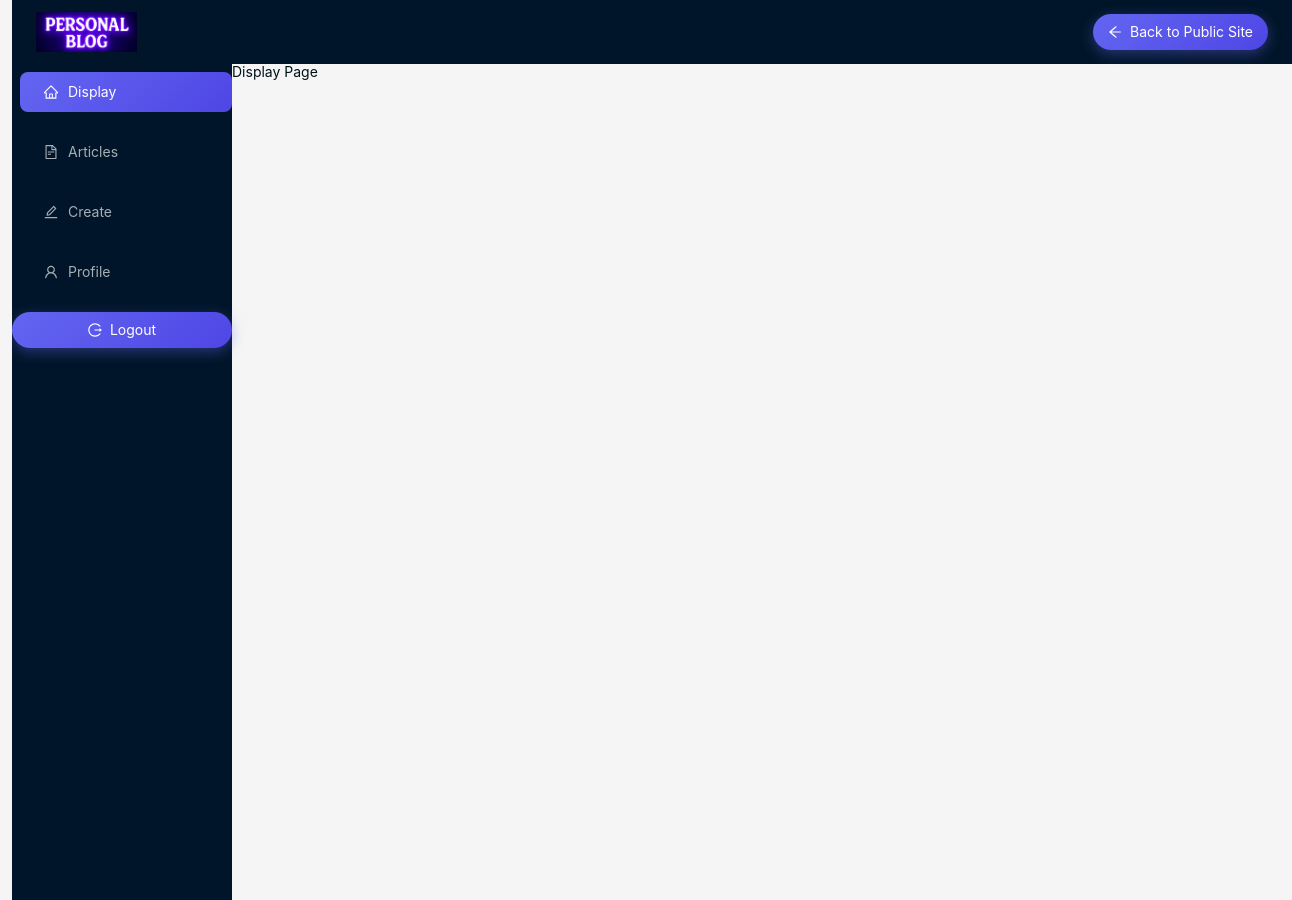
Test: AdminLayout › clicking on menu navigates to page
Click the menu item "Create" at coordinates (78, 212), box [44, 203, 112, 220]
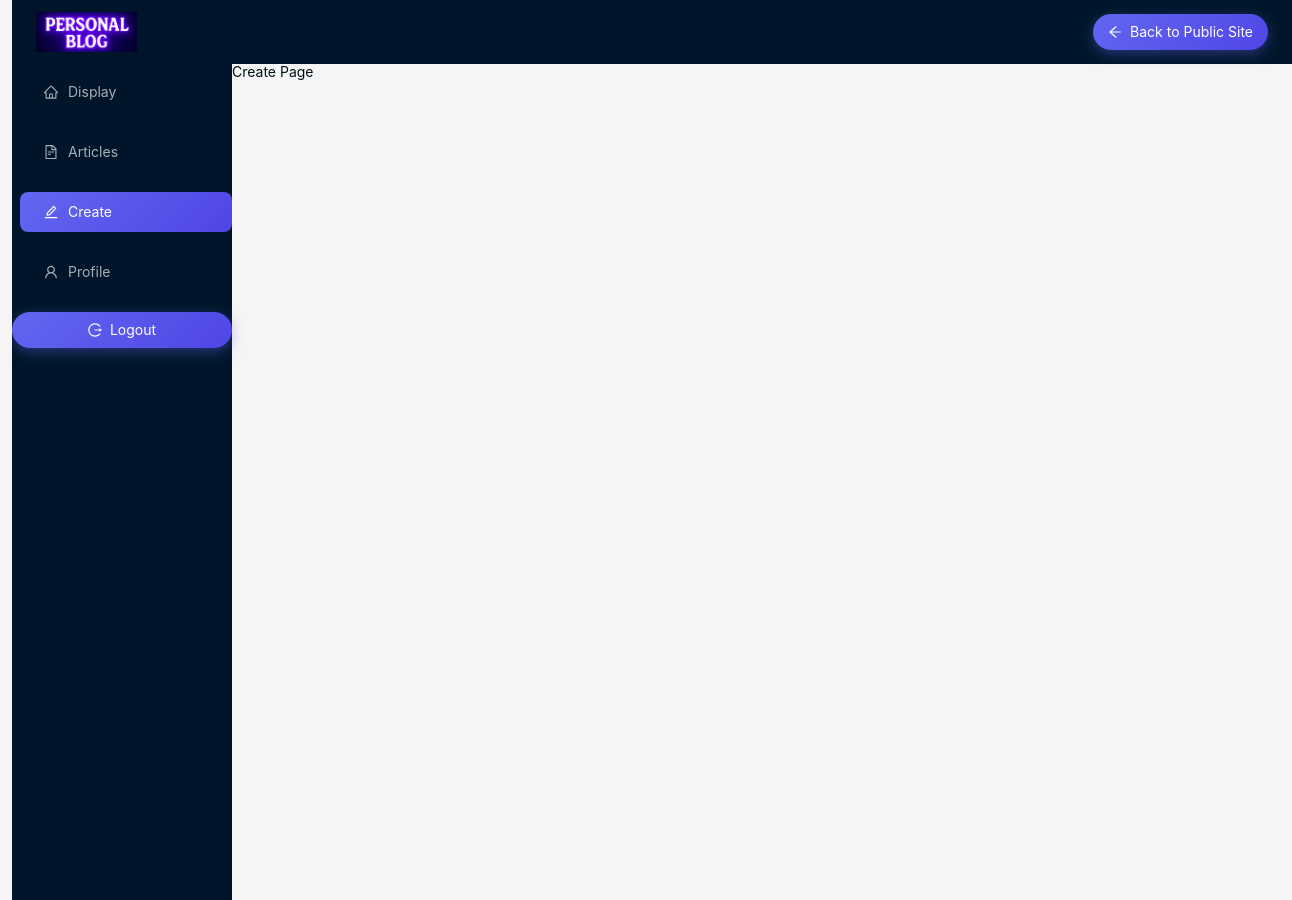
Now the text "Create Page" is shown, box [232, 63, 314, 80]
